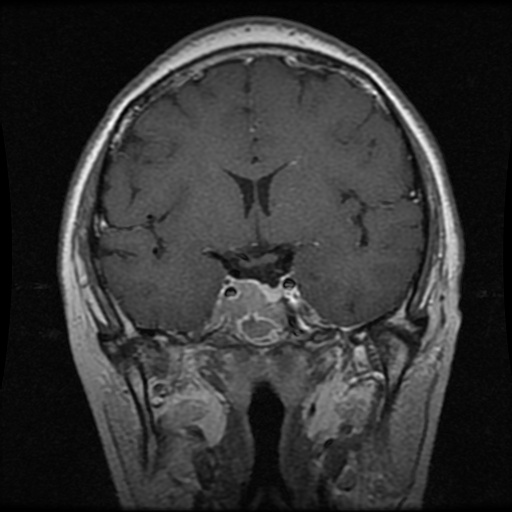pituitary: (221, 281, 286, 340)
